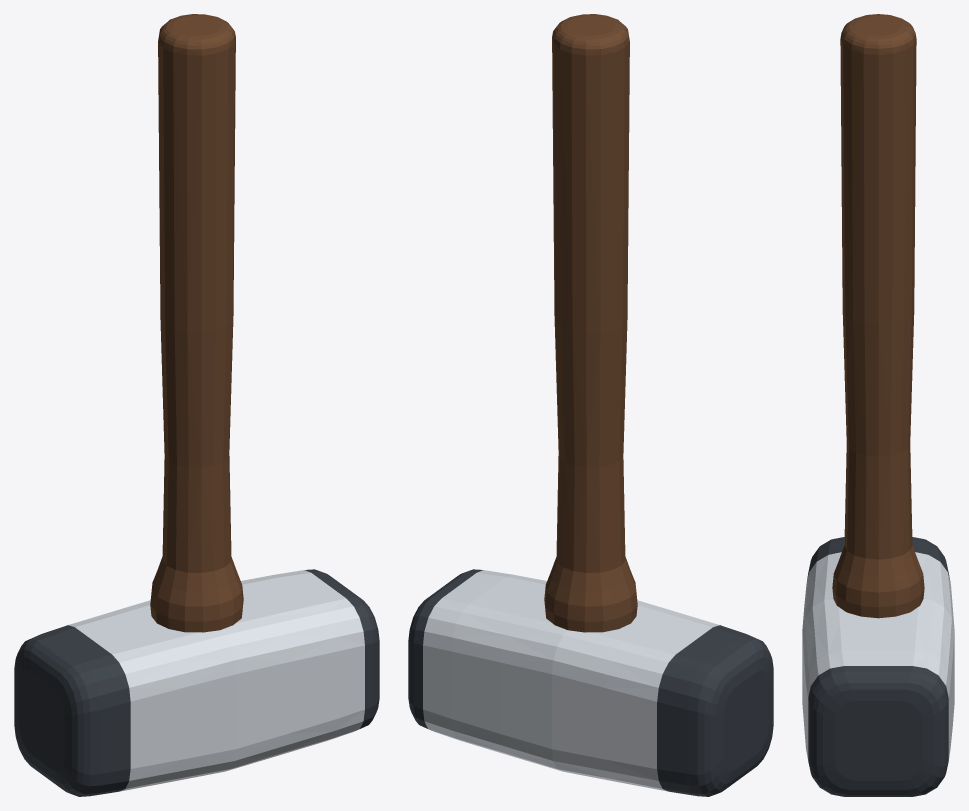
The model's file is PropHammer.obj.
The picture shows the model from 3 angles, left to right: view 1: azimuth 30°, elevation 25°; view 2: azimuth 150°, elevation 25°; view 3: azimuth 270°, elevation 25°; orthographic projection. The views are drawn at different scales.
Bounding box in the file's own units: 0.78 × 1.75 × 0.34.
